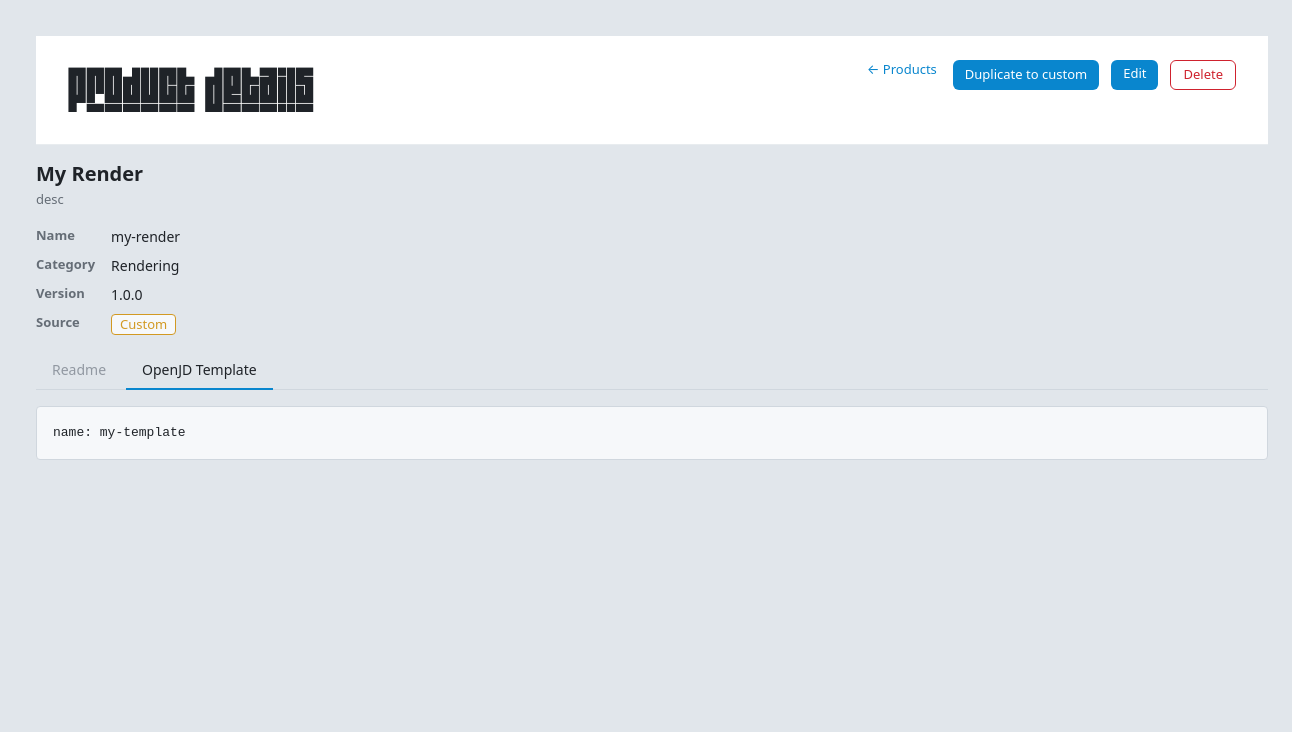
Test: ProductDetail › shows Edit and Delete for a custom product and deletes after confirm
Check: the text "name: my-template" is shown, box [36,406,1268,460]
Check: the link "Edit" is shown, box [1111,60,1158,90]
What coordinates should you click on to do the following:
click the button "Delete"
I would click on:
 (1203, 75)
Its box is [1170,60,1236,90].
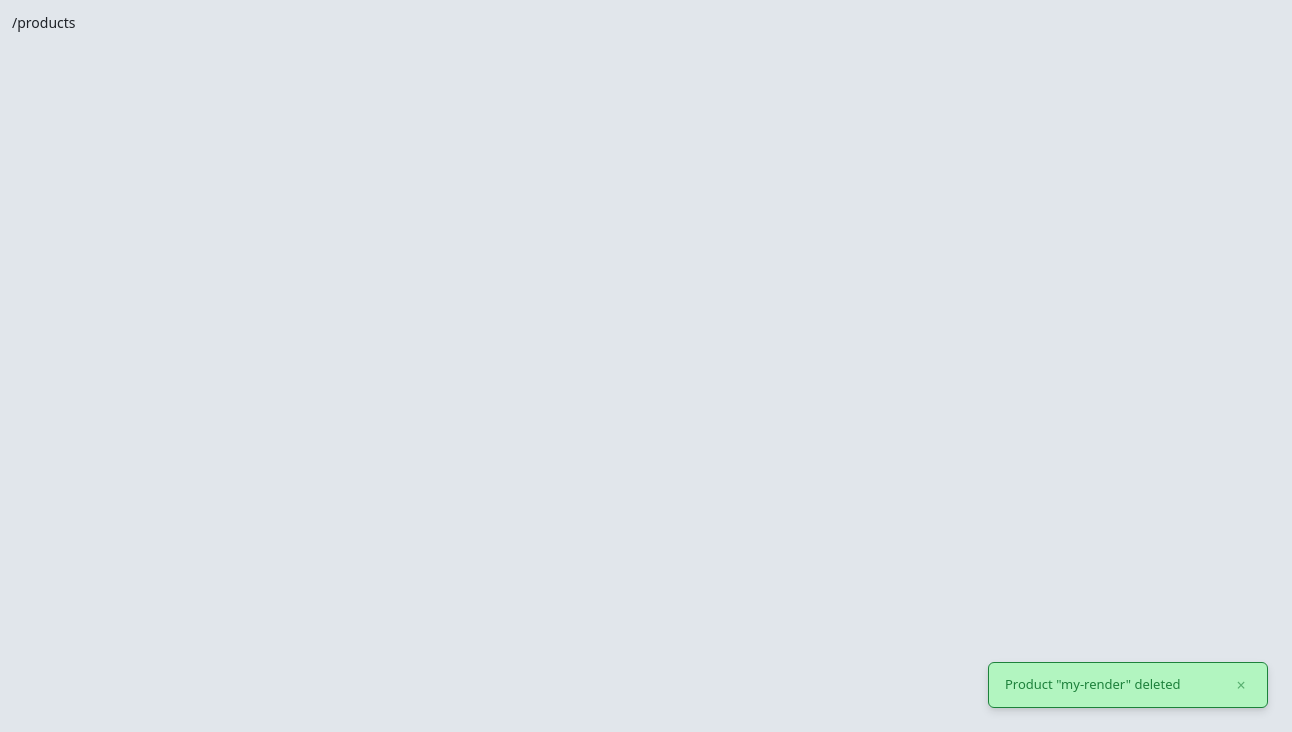
Check: the text with test id "location" reads "/products", box [12,13,76,32]
